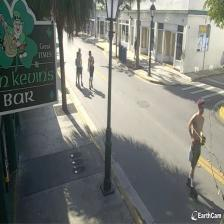person: (187, 98, 206, 198)
